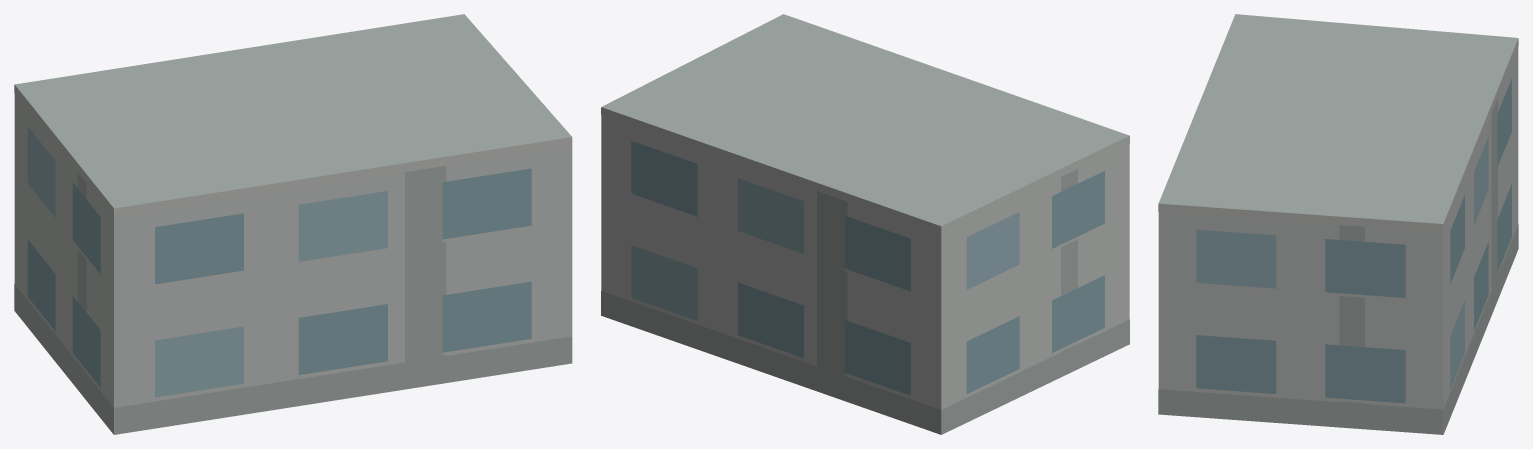
Rendered from residential-71902bad-088f-4315-af23-2570fd452e27.glb.
3 renders of one model, left to right at view 1: azimuth 30°, elevation 25°; view 2: azimuth 150°, elevation 25°; view 3: azimuth 270°, elevation 25°, orthographic. The views are drawn at different scales.
Visible parts, largest first — view 1: residential-71902bad-088f-4315-af23-2570fd452e27.tmp; view 2: residential-71902bad-088f-4315-af23-2570fd452e27.tmp; view 3: residential-71902bad-088f-4315-af23-2570fd452e27.tmp.
Boxes of the visible parts, x1,y1,x2,y2 form: residential-71902bad-088f-4315-af23-2570fd452e27.tmp: (14,14,572,434); residential-71902bad-088f-4315-af23-2570fd452e27.tmp: (601,14,1129,434); residential-71902bad-088f-4315-af23-2570fd452e27.tmp: (1158,14,1518,434).
Bounding box in the file's own units: 13.04 × 6.1 × 9.45.
